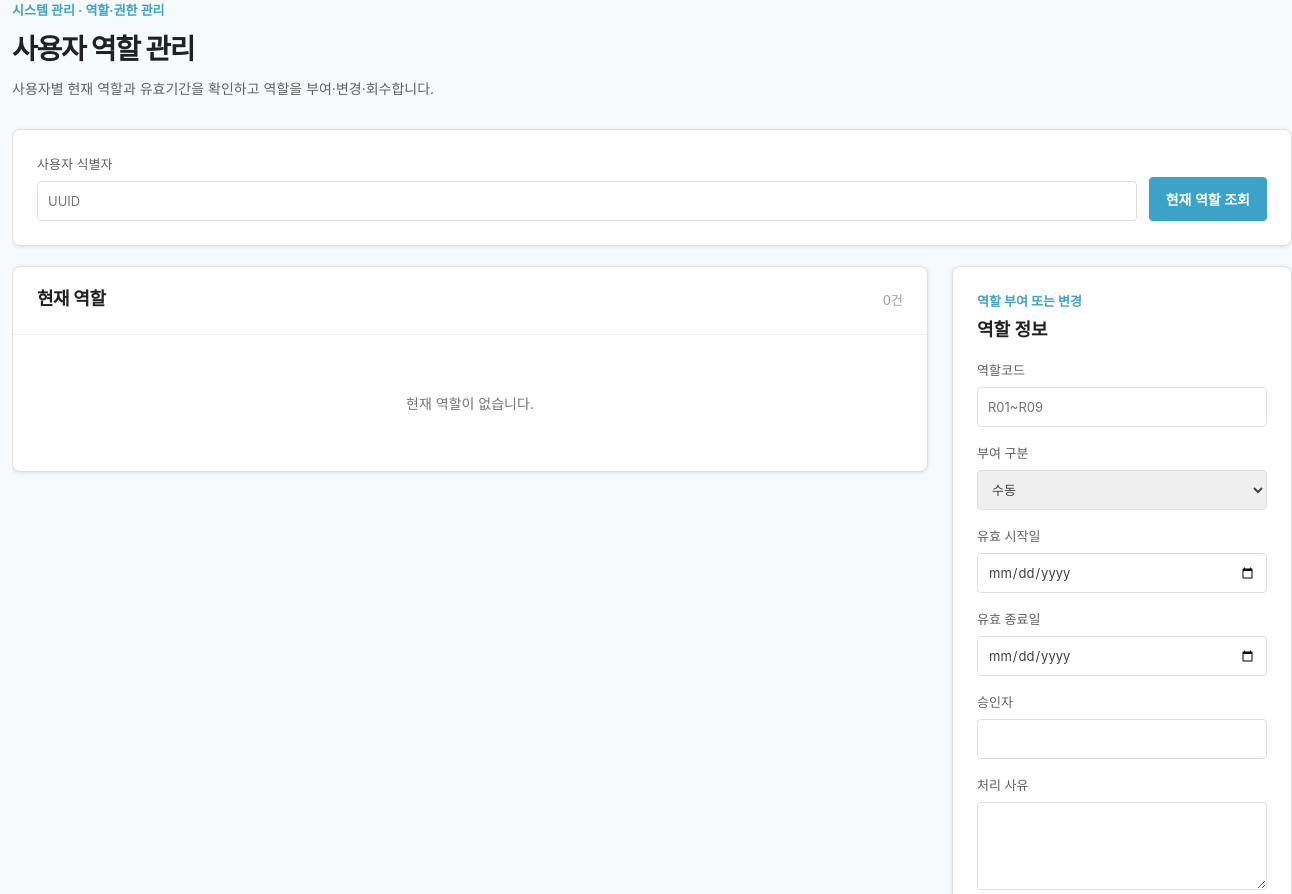
it: UserRoleManagementPage › loads current roles, saves an assignment, and refreshes the current role table
Type "10000000-0000-0000-0000-000000000001" into the field labelled "사용자 식별자". click: {"x": 587, "y": 201}
box: [37, 181, 1137, 221]
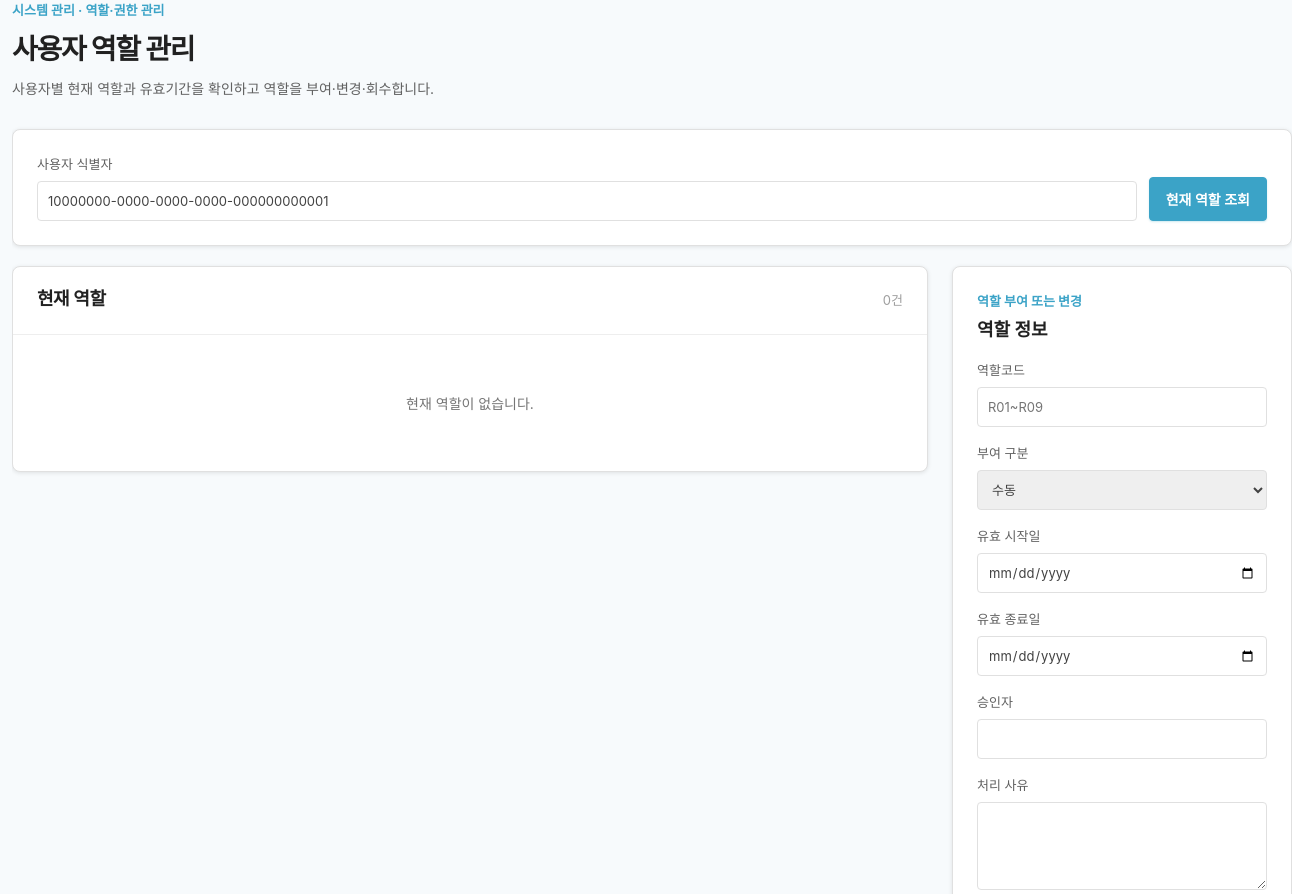
Click the button "현재 역할 조회". click: {"x": 1208, "y": 199}
box: [1149, 177, 1267, 221]
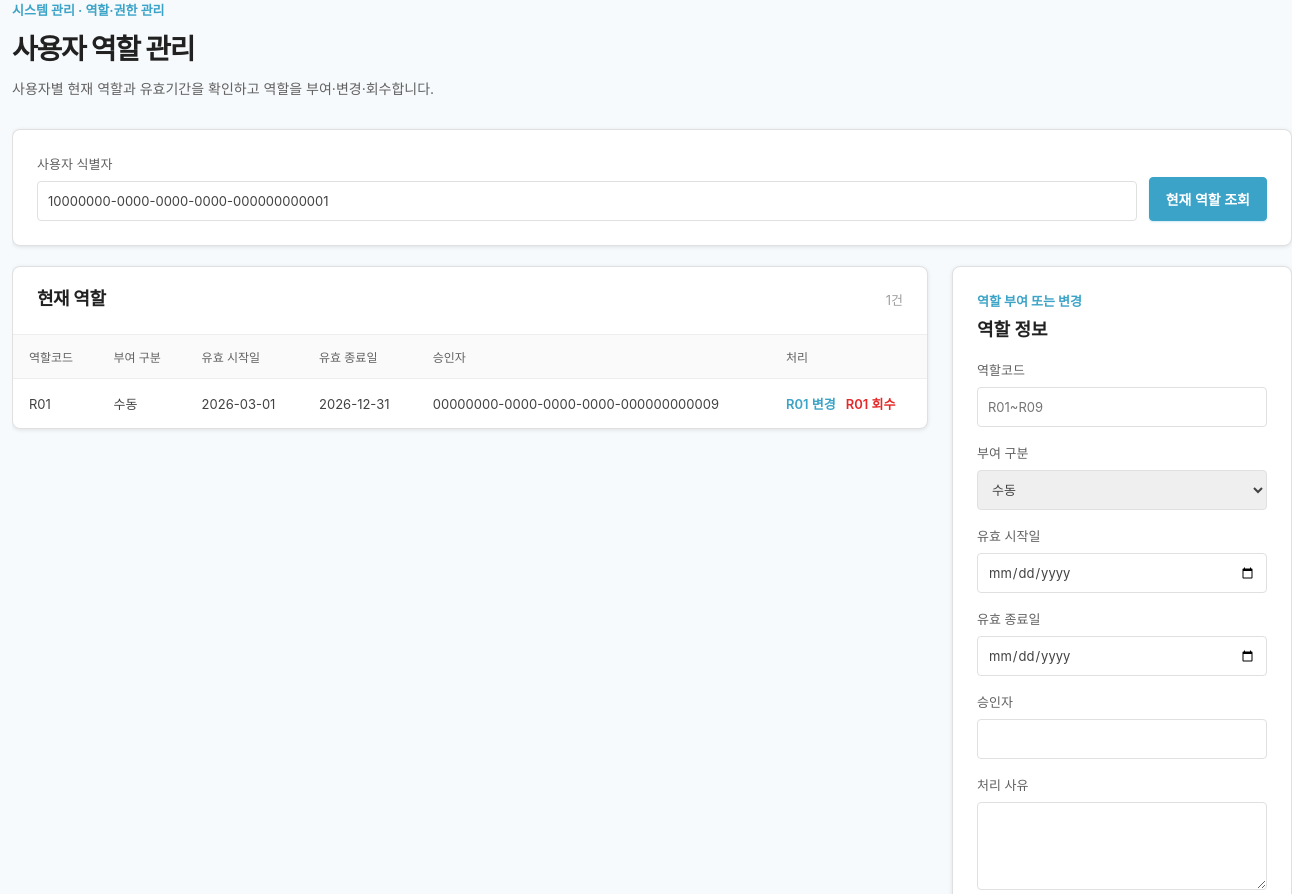
Expected: the text "R01" is shown, [13, 378, 98, 428]
Type "R02" into the field labelled "역할코드". click: {"x": 1122, "y": 407}
box: [977, 387, 1267, 427]
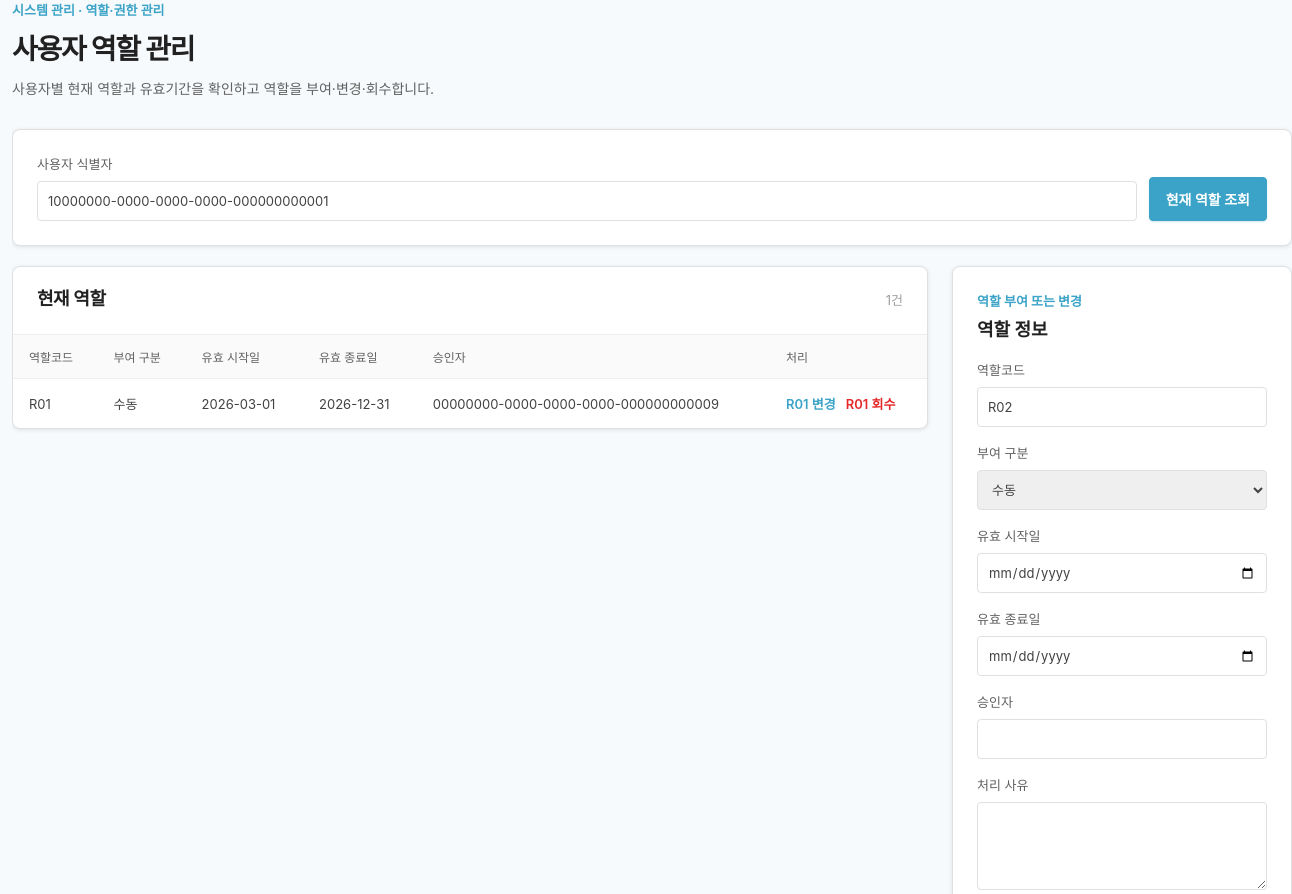
Type "00000000-0000-0000-0000-000000000009" into the field labelled "승인자". click: {"x": 1122, "y": 739}
box: [977, 719, 1267, 759]
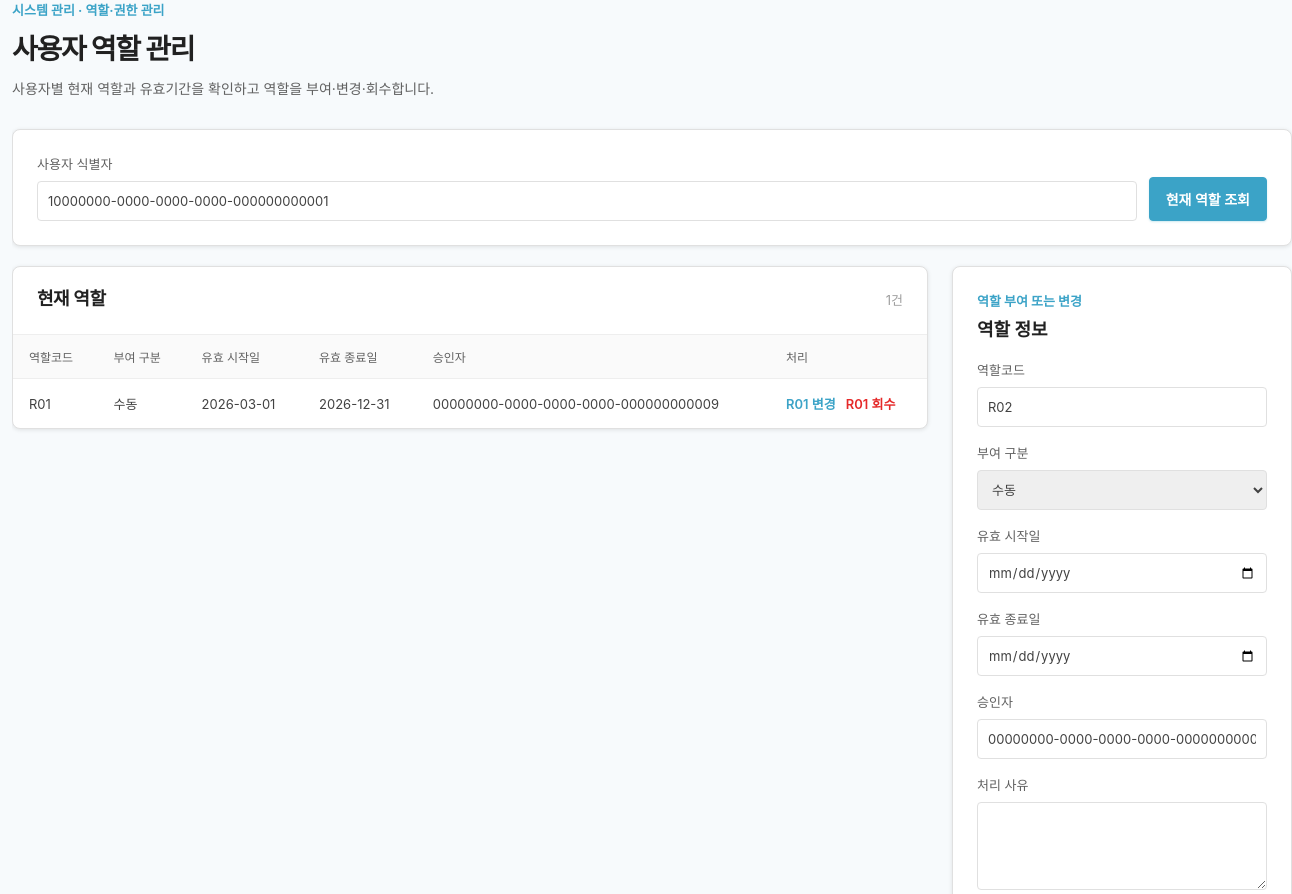
Type "학과장 보직 부여" into the text box labelled "처리 사유". click: {"x": 1122, "y": 846}
box: [977, 802, 1267, 890]
(page scrolled)
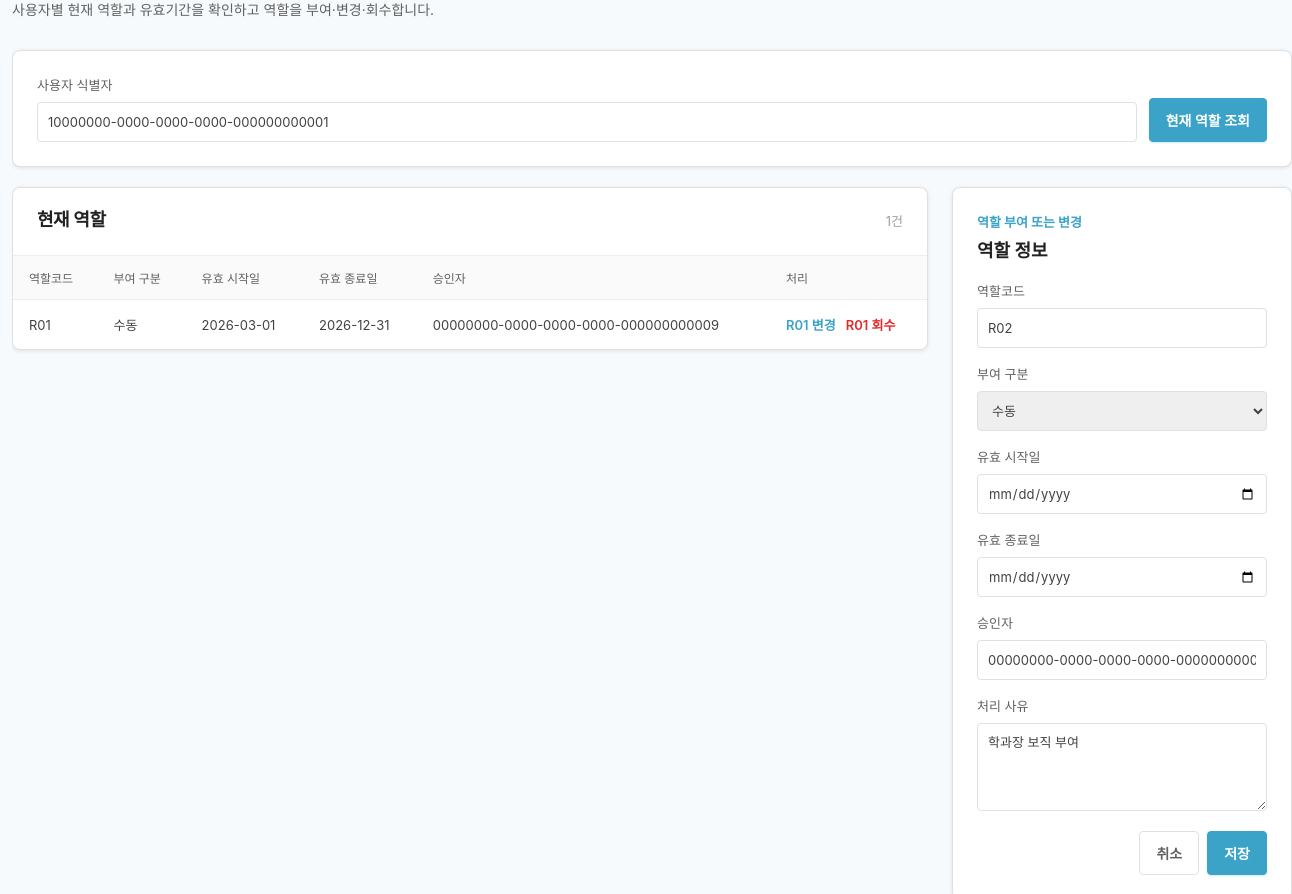
Click the button "저장". click: {"x": 1237, "y": 853}
box: [1207, 831, 1267, 875]
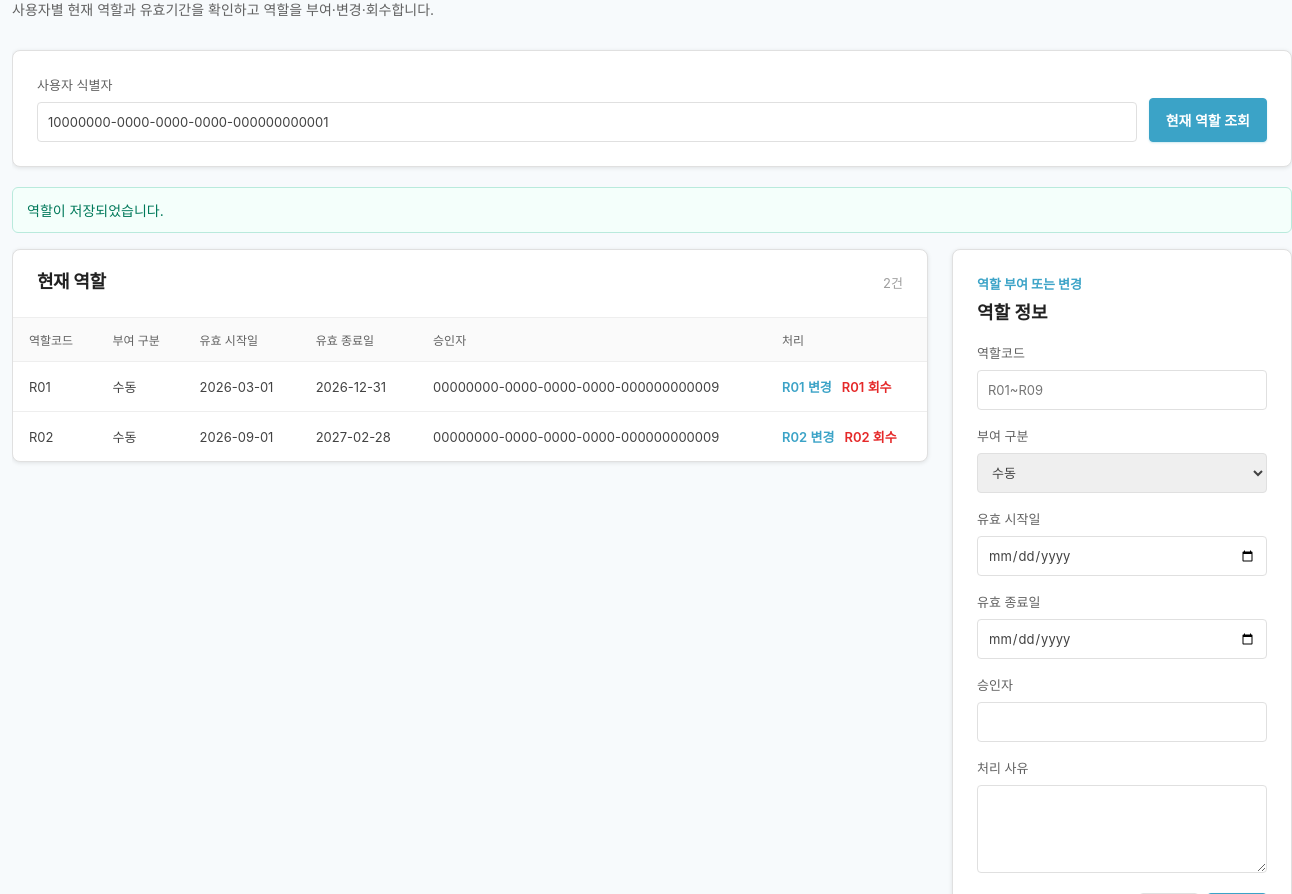
Expected: the text "역할이 저장되었습니다." is shown, [12, 187, 1291, 233]
Expected: the text "R02" is shown, [13, 412, 96, 461]
